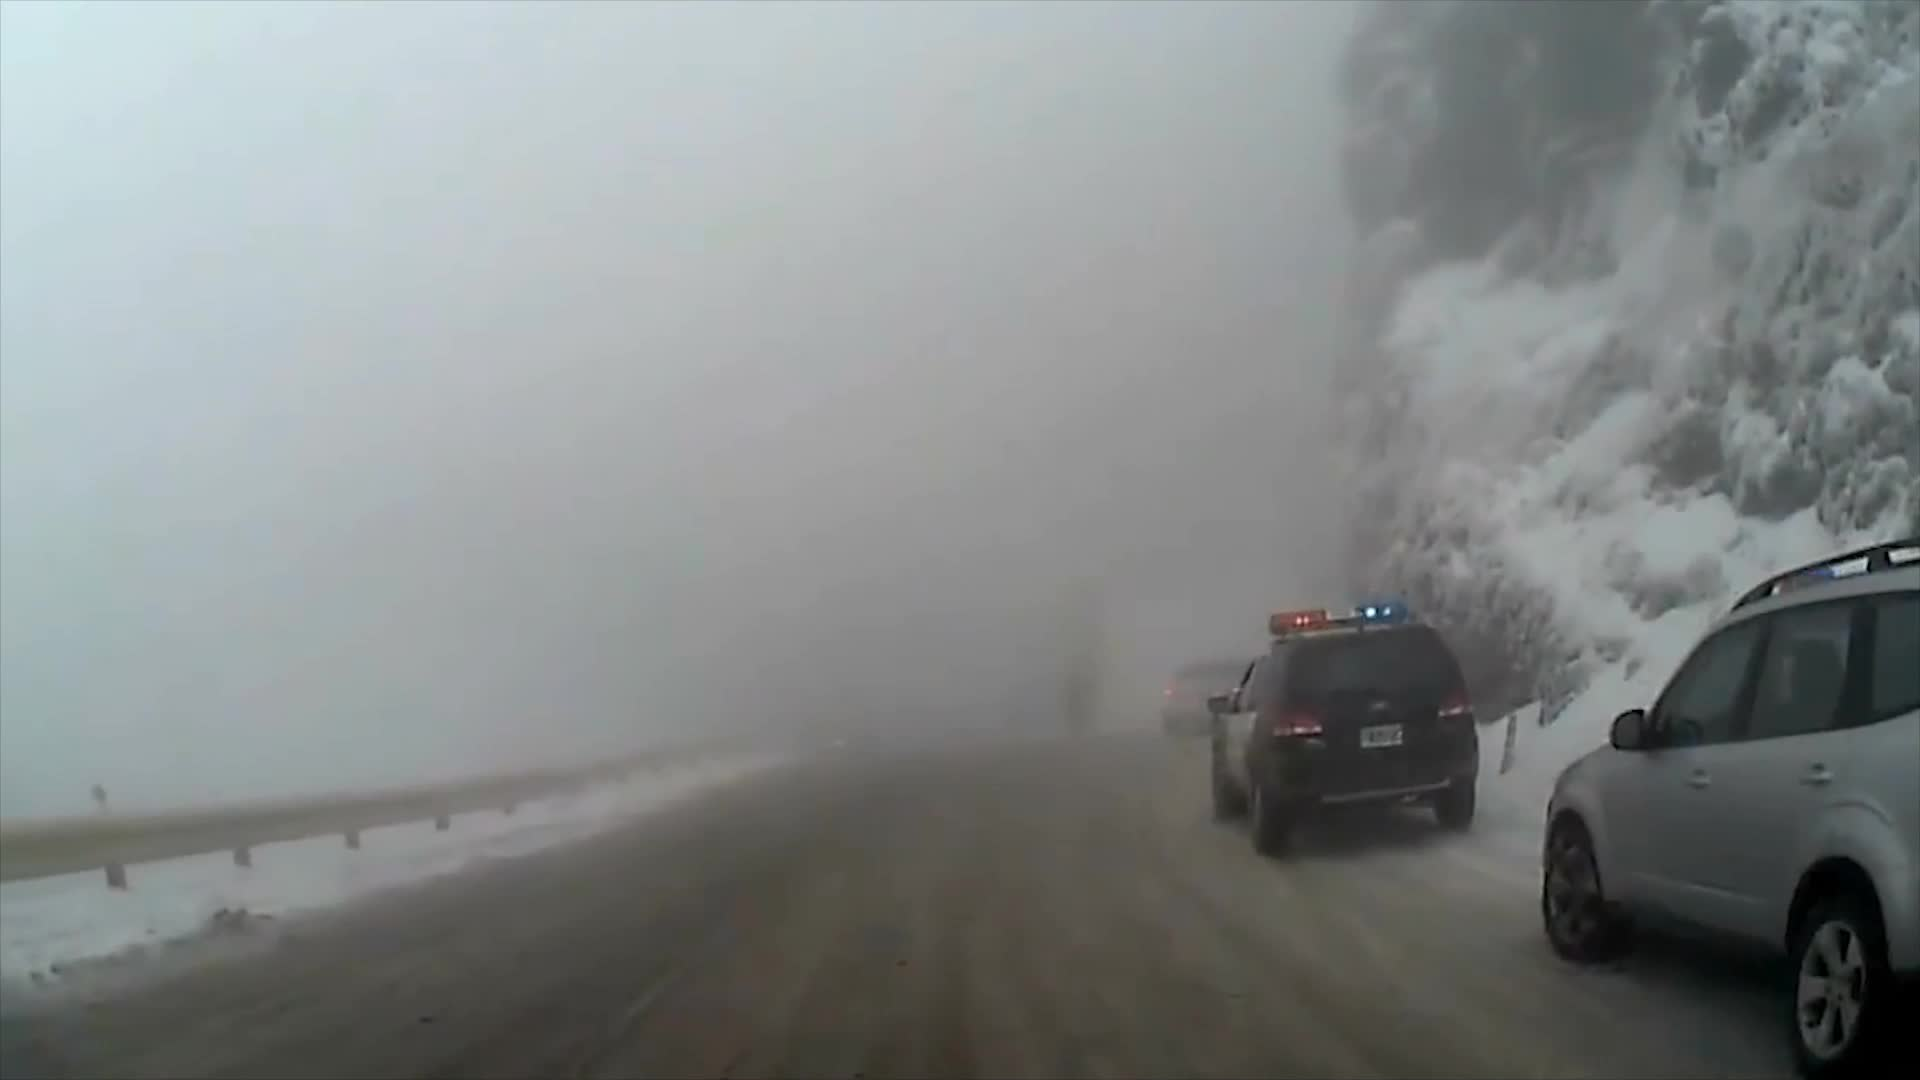vehicle: (1535, 533, 1920, 1080), (1200, 600, 1478, 858)
